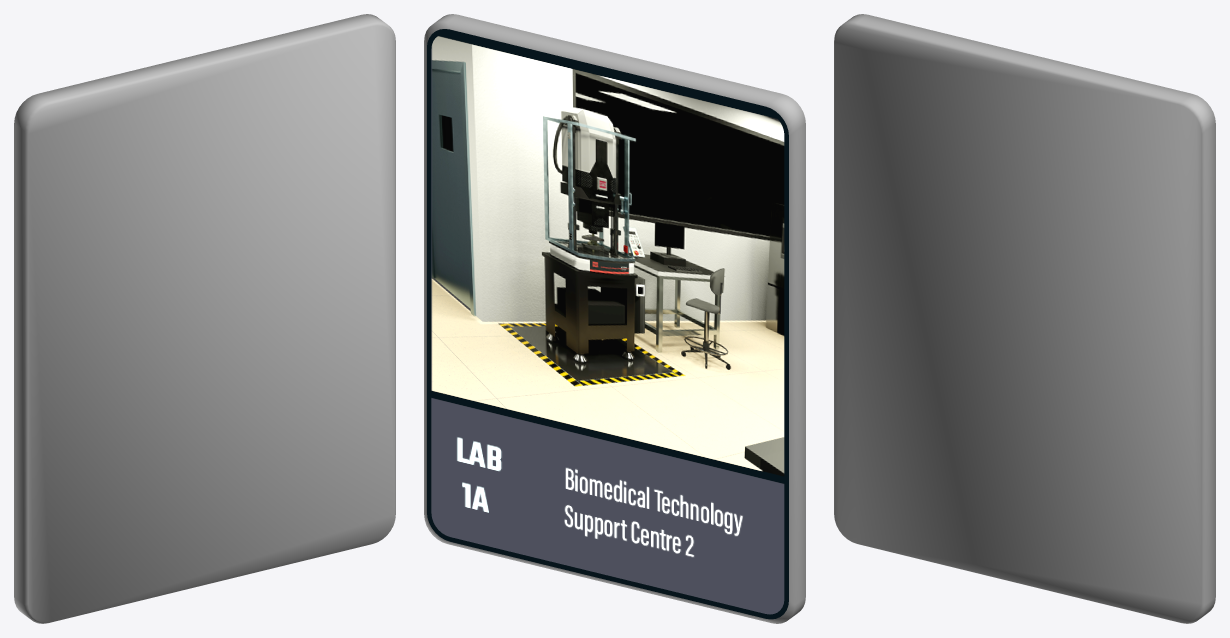
The model's file is Lab_1A_Icon.glb.
3 renders of one model, left to right at view 1: azimuth 30°, elevation 25°; view 2: azimuth 150°, elevation 25°; view 3: azimuth 330°, elevation 25°, orthographic.
Parts seen in each view (by area): view 1: Lab_1A_Back; view 2: Lab_1A_Front, Lab_1A_Back; view 3: Lab_1A_Back.
Boxes of the visible parts, <box> form: Lab_1A_Back: <box>14,14,395,623</box>; Lab_1A_Front: <box>427,29,788,619</box>; Lab_1A_Back: <box>424,14,805,623</box>; Lab_1A_Back: <box>834,14,1215,623</box>.
Bounding box in the file's own units: 2 × 2.69 × 0.132.
Materials: 2 (1 with a texture image).
